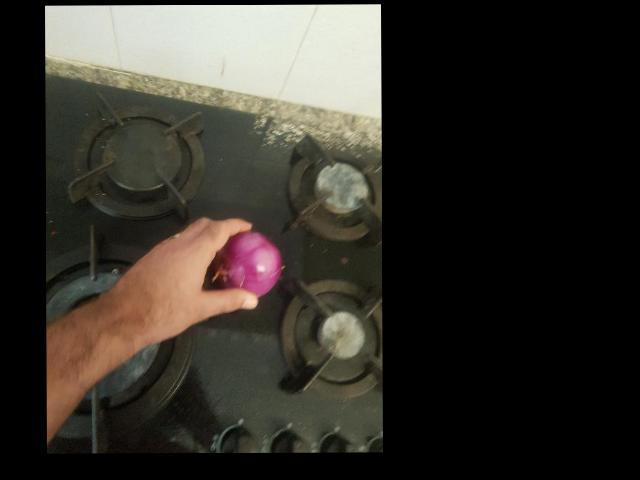onion: (271, 101, 339, 170)
